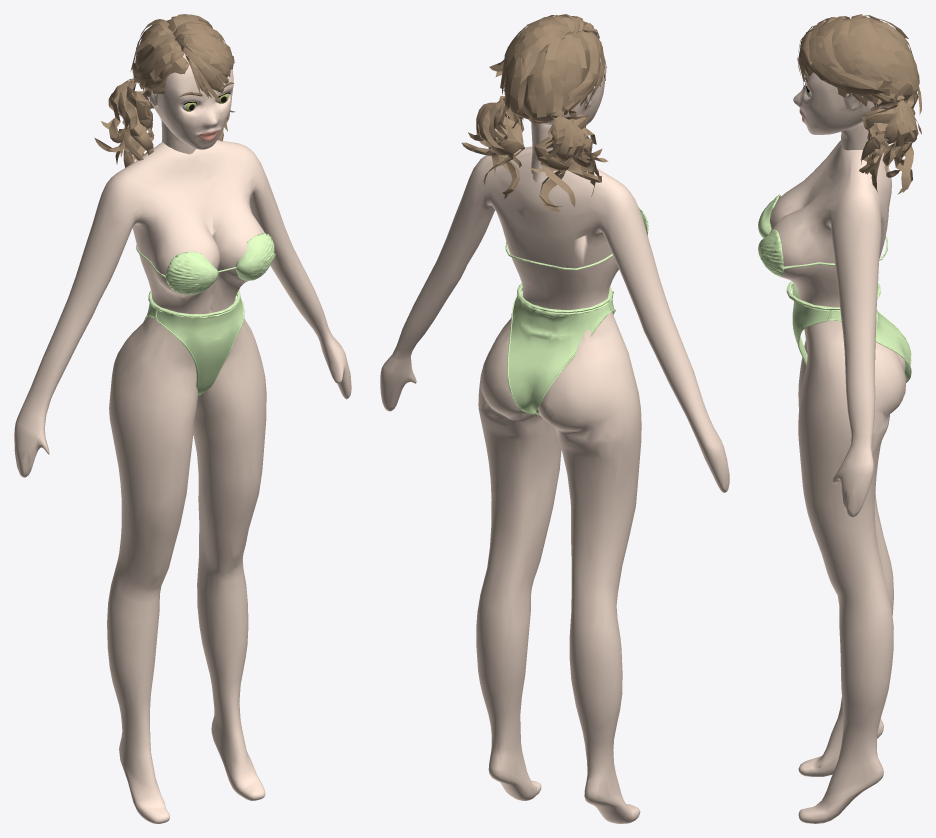
File: 1105_yesil.fbx
3 renders of one model, left to right at view 1: azimuth 30°, elevation 25°; view 2: azimuth 150°, elevation 25°; view 3: azimuth 270°, elevation 25°, orthographic. The views are drawn at different scales.
Visible parts, largest first — view 1: Cube.017; view 2: Cube.017; view 3: Cube.017.
Boxes of the visible parts, box(x1,y1,x2,y2) form: Cube.017: box(14, 14, 351, 823); Cube.017: box(380, 14, 729, 823); Cube.017: box(758, 14, 921, 823).
Size of the model in its own units: 2106 by 4697 by 894.
